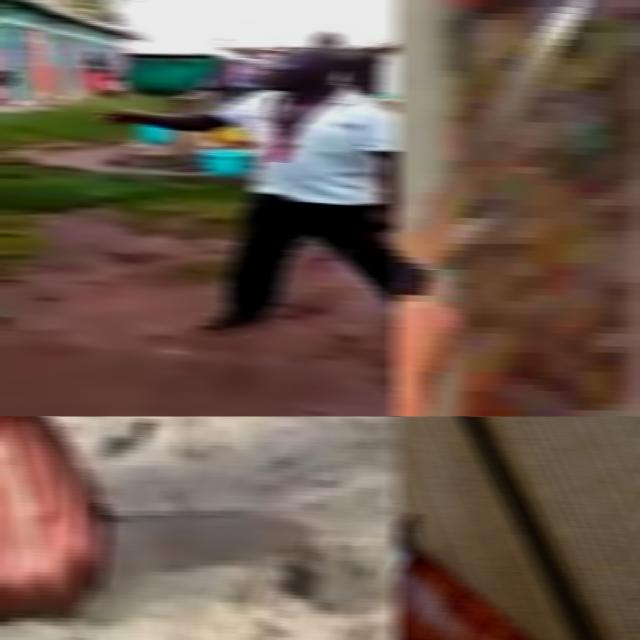Knife: (94, 504, 316, 588), (335, 228, 383, 254)
Knife_Handle: (393, 0, 595, 416), (0, 440, 305, 608), (338, 206, 399, 256)
